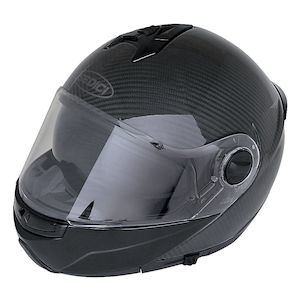with_helmet: (11, 21, 291, 278)
